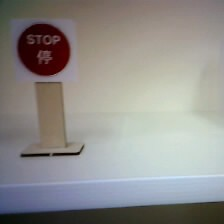stop: (11, 17, 76, 79)
